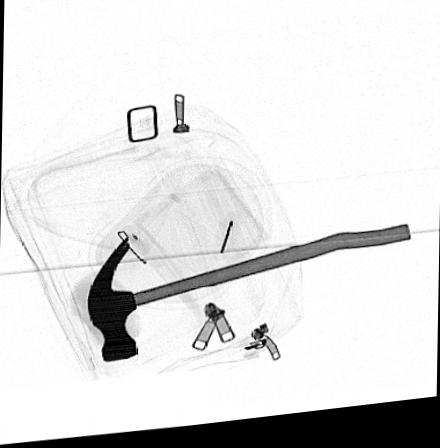Hammer: (87, 234, 412, 364)
